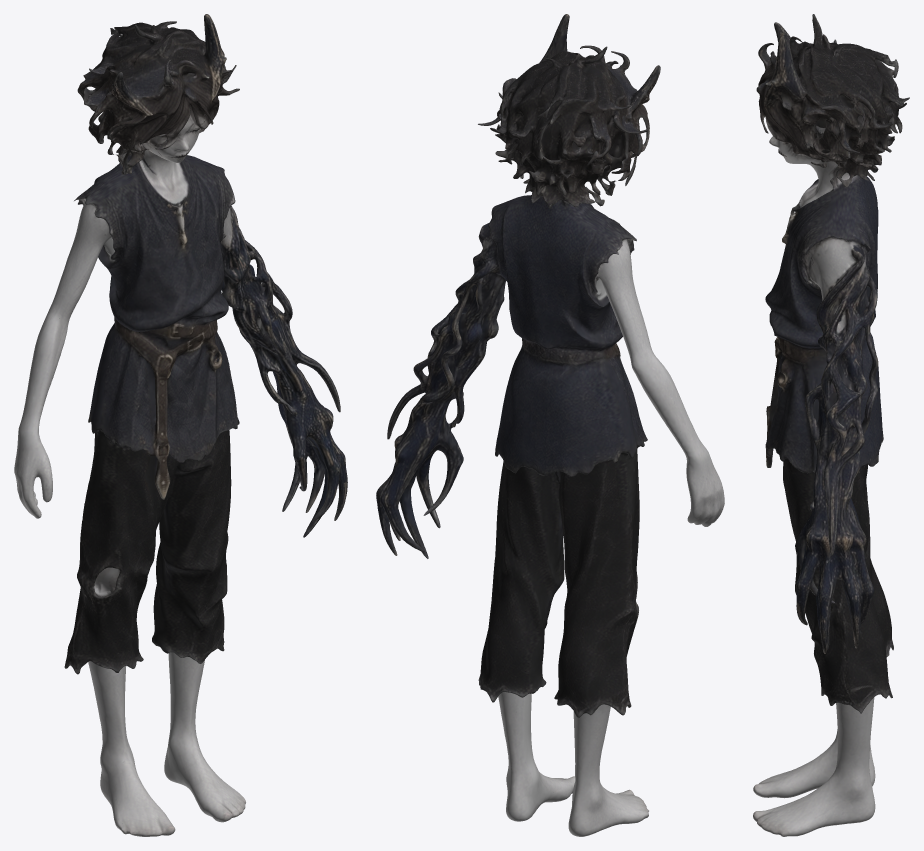
The model's file is Subject_143_True.fbx.
The picture shows the model from 3 angles, left to right: view 1: azimuth 30°, elevation 25°; view 2: azimuth 150°, elevation 25°; view 3: azimuth 270°, elevation 25°; orthographic projection. The views are drawn at different scales.
Visible parts, largest first — view 1: Mesh_0; view 2: Mesh_0; view 3: Mesh_0.
Boxes of the visible parts, <box> form: Mesh_0: <box>14,14,347,836</box>; Mesh_0: <box>376,14,724,836</box>; Mesh_0: <box>753,14,909,836</box>.
Bounding box in the file's own units: 82.59 × 190 × 34.25.
Materials: 1 (1 with a texture image).
